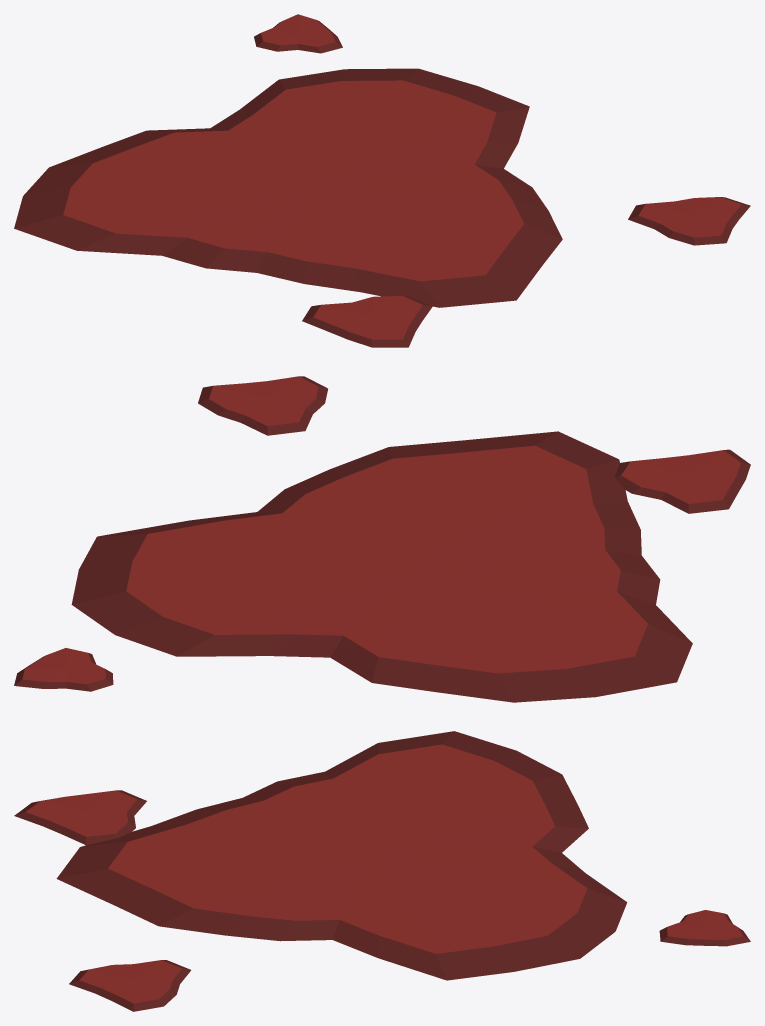
File: gore_pool_small.glb
The picture shows the model from 3 angles, top to bottom: view 1: azimuth 30°, elevation 25°; view 2: azimuth 150°, elevation 25°; view 3: azimuth 270°, elevation 25°; orthographic projection. The views are drawn at different scales.
Parts seen in each view (by area): view 1: NC_gore_pool_small; view 2: NC_gore_pool_small; view 3: NC_gore_pool_small.
Part boxes in pixels (left/top/right/bottom): NC_gore_pool_small: left=14, top=14, right=750, bottom=347; NC_gore_pool_small: left=14, top=376, right=750, bottom=702; NC_gore_pool_small: left=14, top=731, right=750, bottom=1011.
Size of the model in its own units: 0.783 by 0.0118 by 0.8685.
